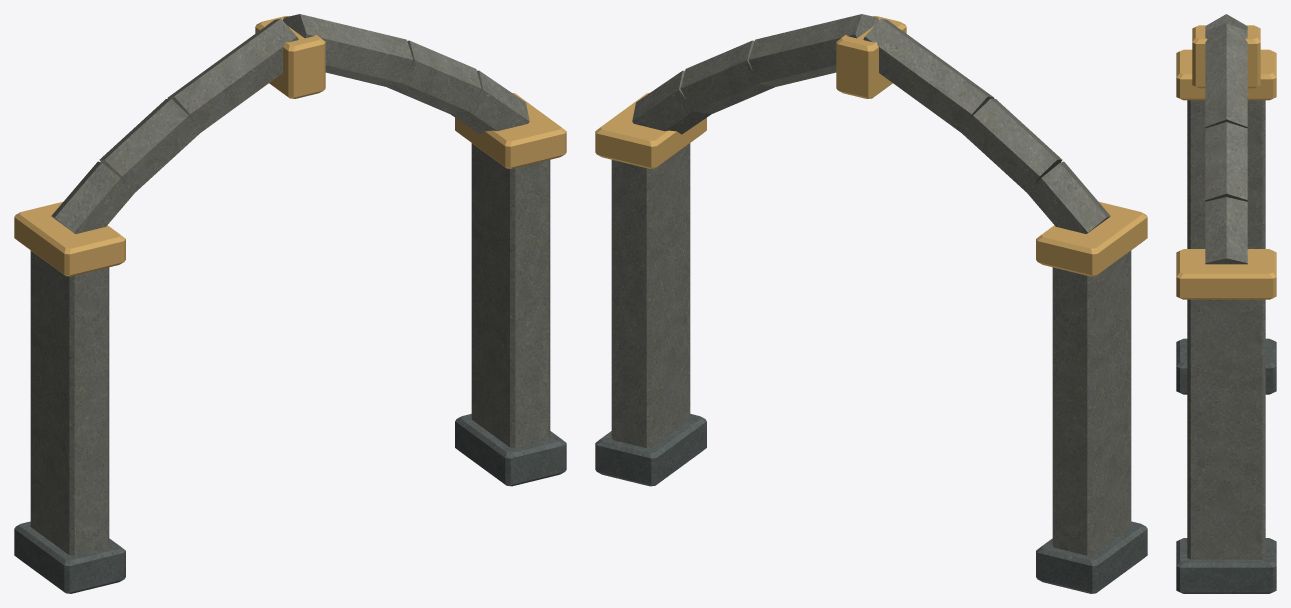
Rendered from source.glb.
The picture shows the model from 3 angles, left to right: view 1: azimuth 30°, elevation 25°; view 2: azimuth 150°, elevation 25°; view 3: azimuth 270°, elevation 25°; orthographic projection. The views are drawn at different scales.
Visible parts, largest first — view 1: body; view 2: body; view 3: body.
Part boxes in pixels (<box>): body: <box>14,14,566,593</box>; body: <box>595,14,1147,593</box>; body: <box>1176,14,1276,593</box>.
Bounding box in the file's own units: 3.76 × 3.57 × 0.7.
3 materials, 2 textured.
